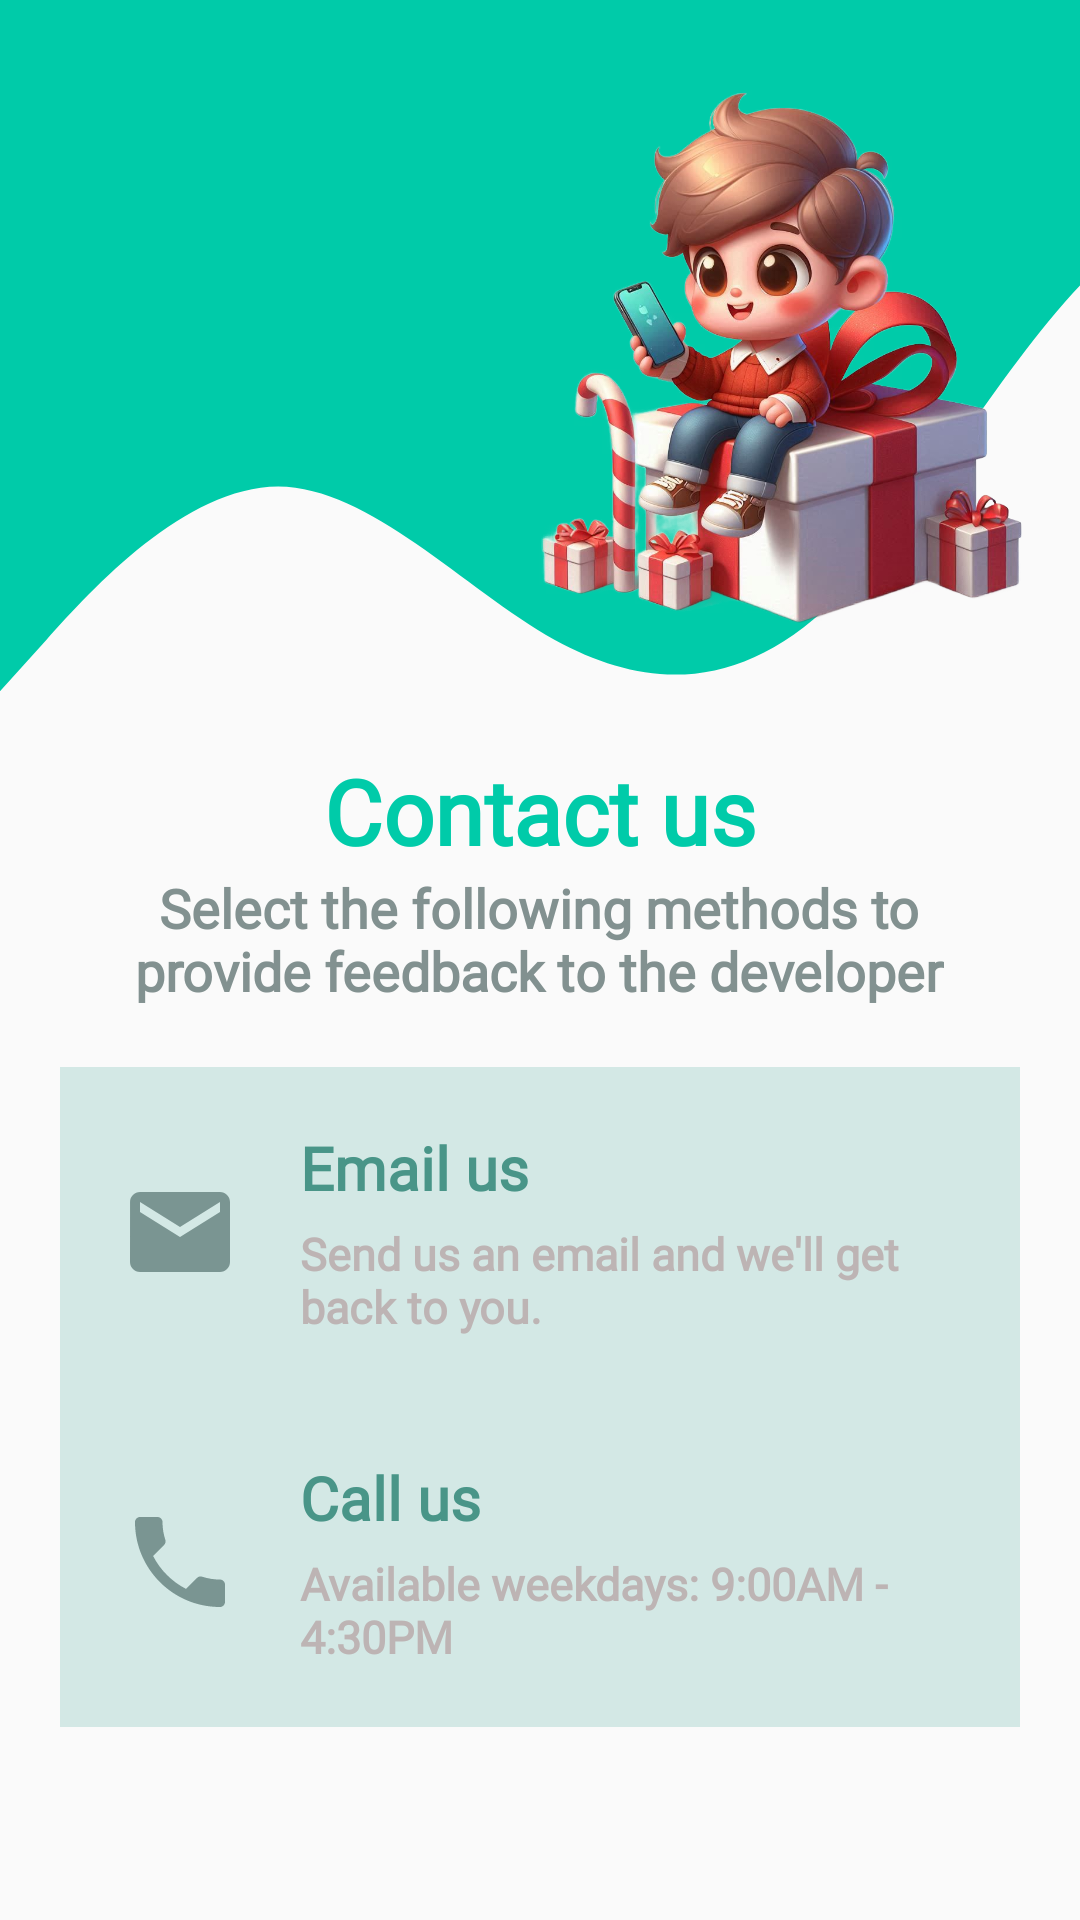

Where icons sit on this 1080px×1920px app screen, as (x1, y1, x2, y2):
phone: (135, 1517, 225, 1607)
